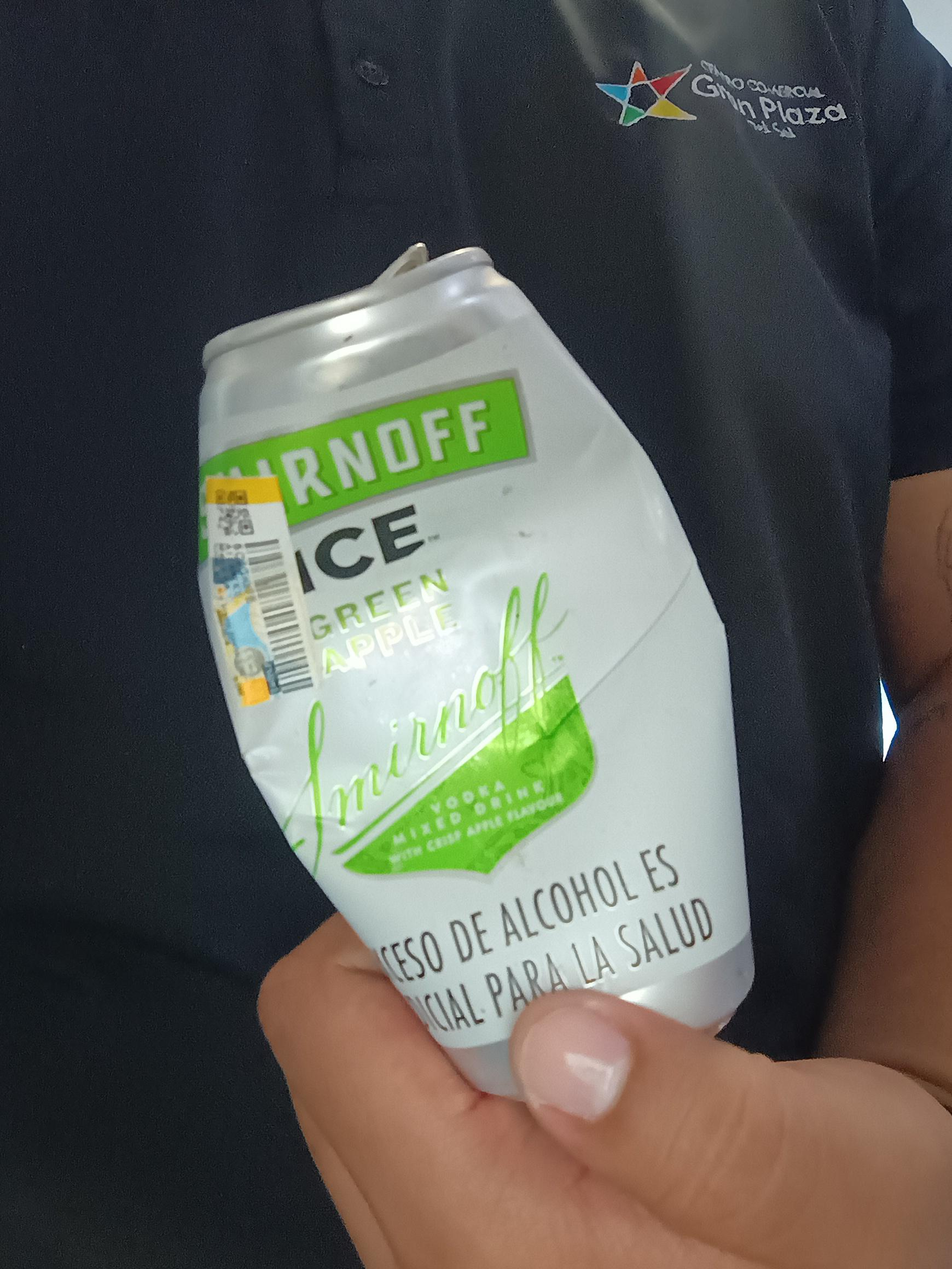Metal: (200, 248, 756, 1101)
